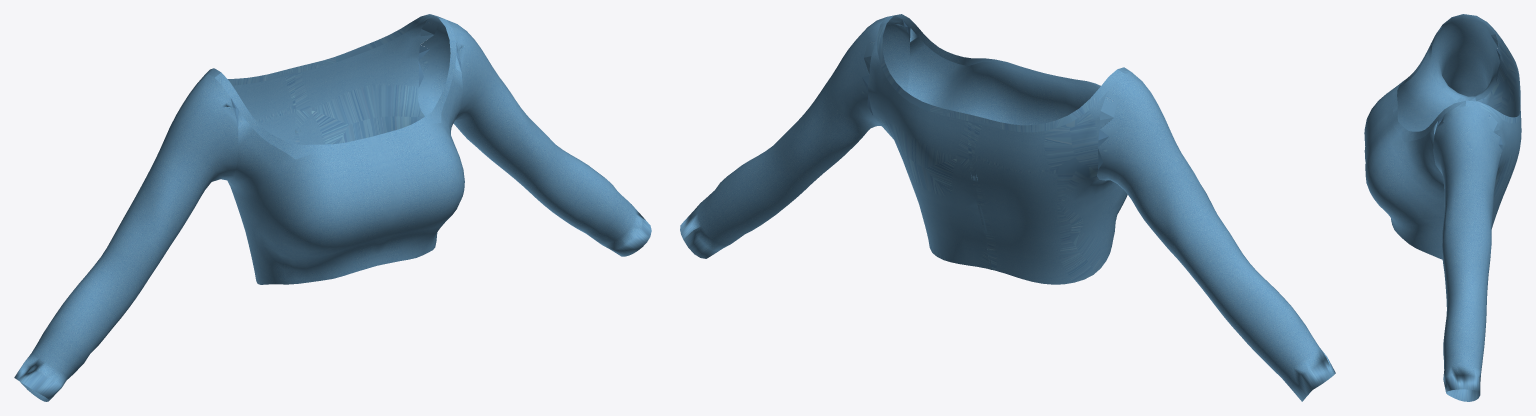
The model's file is shoulders_top.glb.
3 renders of one model, left to right at view 1: azimuth 30°, elevation 25°; view 2: azimuth 150°, elevation 25°; view 3: azimuth 270°, elevation 25°, orthographic. The views are drawn at different scales.
Visible parts, largest first — view 1: all; view 2: all; view 3: all.
Part boxes in pixels (x1,y1,x2,y2): all: (14, 14, 651, 401); all: (680, 14, 1335, 401); all: (1364, 14, 1521, 401).
Size of the model in its own units: 1.22 by 0.5211 by 0.323.
1 material, 1 textured.
